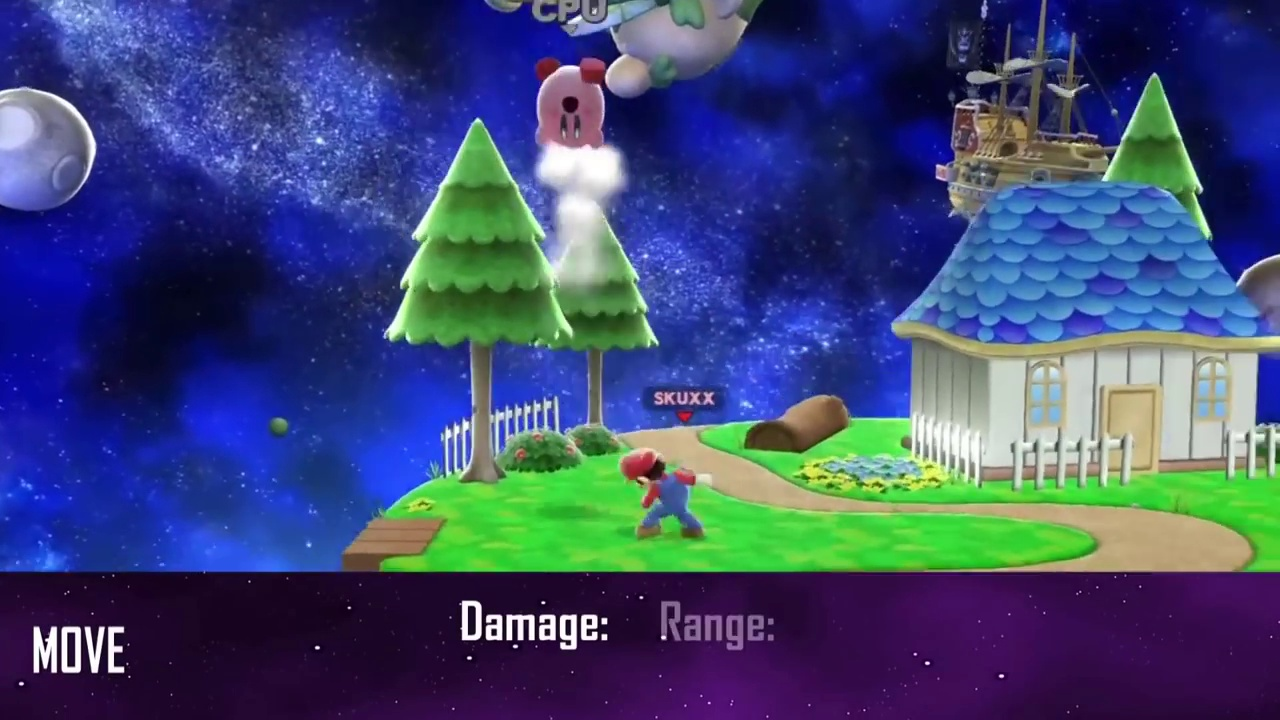Mario: (622, 449, 711, 542)
